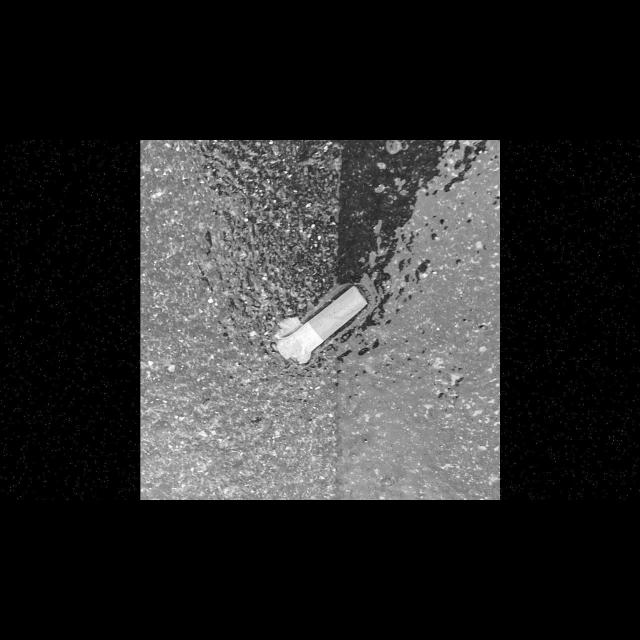cigarette: (274, 285, 370, 365)
